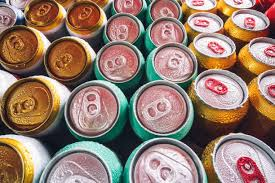can: (0, 74, 63, 141), (199, 131, 275, 183), (122, 138, 210, 182), (63, 80, 126, 139), (40, 139, 124, 183), (132, 81, 193, 137), (192, 69, 248, 122), (1, 129, 49, 183), (96, 37, 146, 81), (142, 46, 198, 80), (2, 23, 44, 67), (49, 32, 92, 69), (64, 0, 107, 31), (193, 32, 232, 65), (241, 33, 275, 70), (106, 5, 143, 38), (227, 6, 269, 35), (146, 13, 183, 42), (23, 0, 61, 28), (256, 68, 275, 117), (185, 8, 219, 35)
